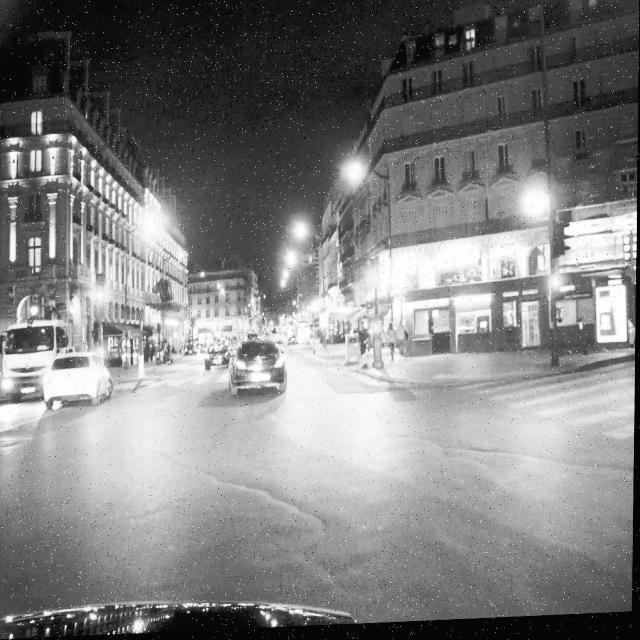Truck: (2, 317, 77, 404)
